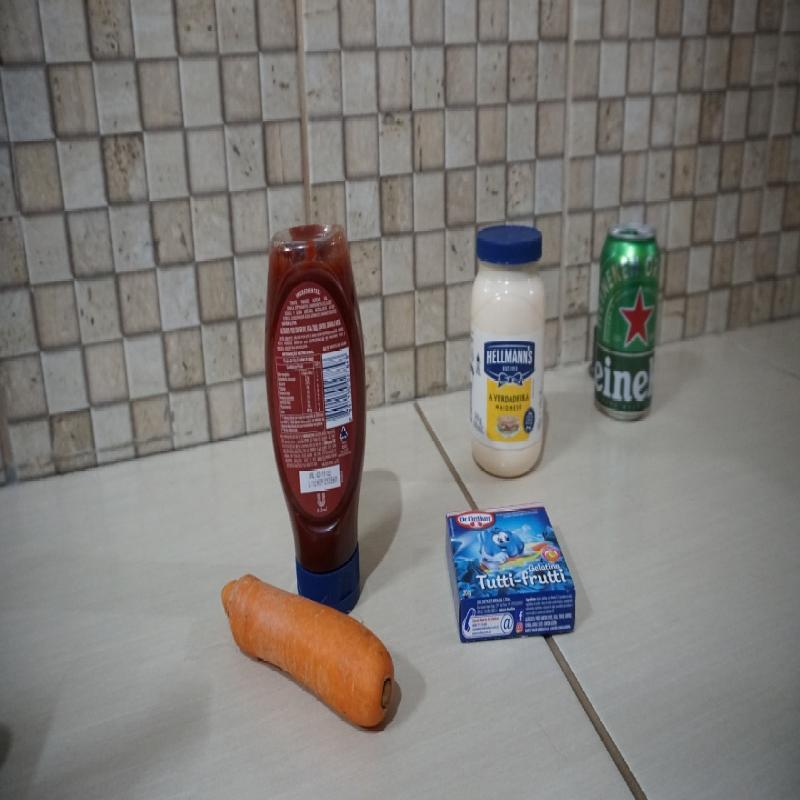Beer can: (591, 220, 662, 426)
Carrot: (221, 572, 396, 732)
Gelatine: (443, 503, 578, 648)
Ketchup: (263, 223, 368, 622)
Mayonnaise: (469, 224, 548, 482)
